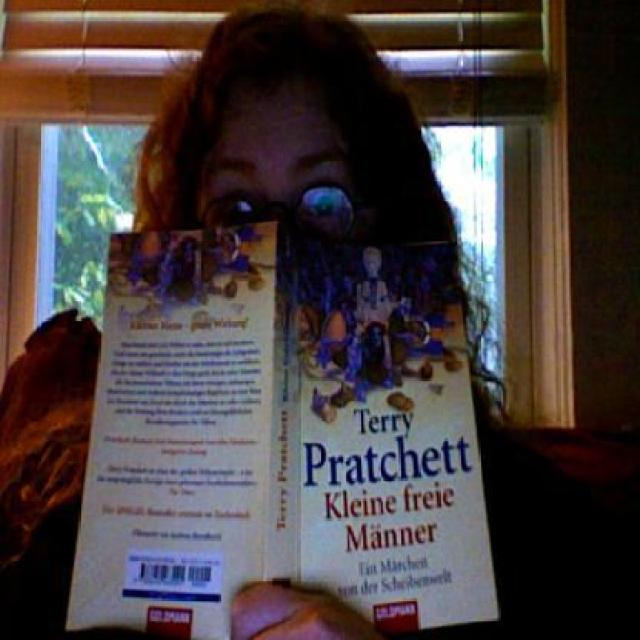Person: (2, 15, 604, 639), (332, 244, 406, 410), (153, 232, 204, 302)
